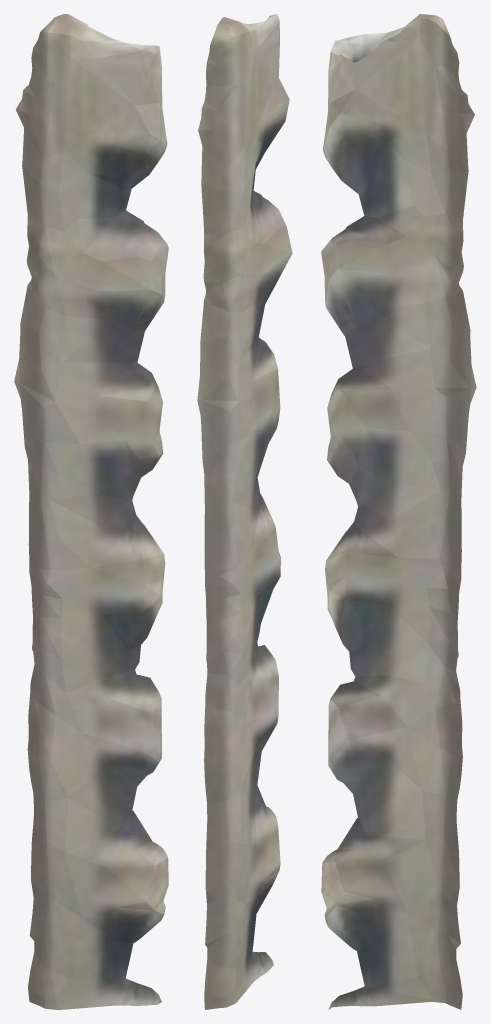
The model's file is Tile_+004_+000_L22_00013100.glb.
3 views of the same model, side by side, from view 1: azimuth 90°, elevation 25°; view 2: azimuth 150°, elevation 25°; view 3: azimuth 270°, elevation 25° (orthographic).
Visible parts, largest first — view 1: rtc; view 2: rtc; view 3: rtc.
Part boxes in pixels (x1=…): rtc: x1=14, y1=14, x2=168, y2=1009; rtc: x1=197, y1=14, x2=292, y2=1009; rtc: x1=321, y1=14, x2=476, y2=1009.
Size of the model in its own units: 0.4138 by 14.27 by 2.02.
1 material, 1 textured.
